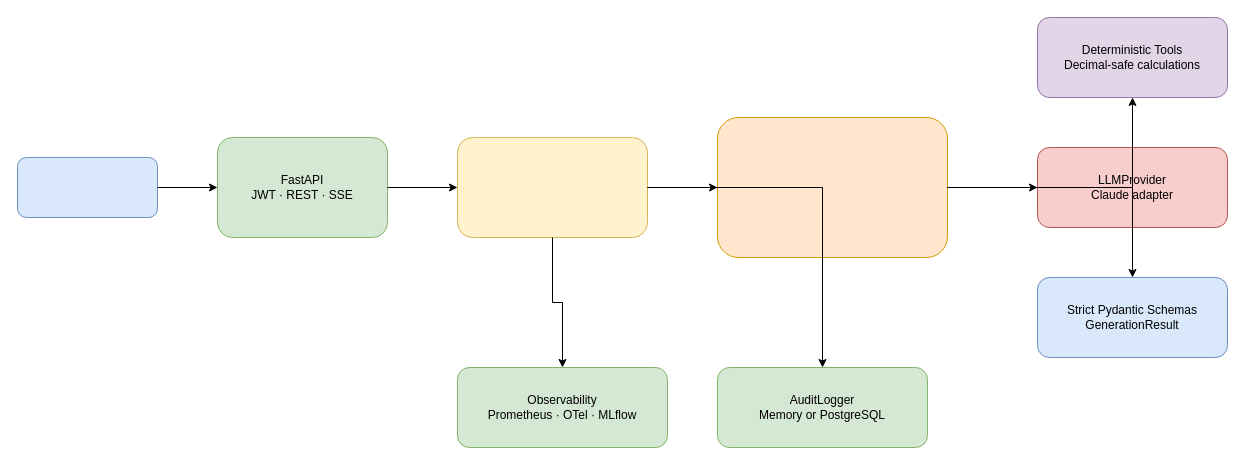
This 1245x465 diagram has some shape labels left out. The shapes that lost their labels are listed below. From the top down, each one's box as (x1, y1, x2, y2) in pixels, then its label:
(16, 156, 158, 218): API Client
(456, 136, 648, 238): Async LangGraph CompanyState · routing
(716, 116, 948, 258): Injected Agents Finance · Marketing · Data Scientist Report · CEO
